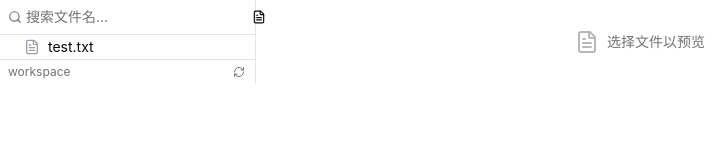
Test: FileExplorerPanel › 搜索输入触发文件搜索
Type in search
Type "found" into the field with test id "search-input" at (135, 17), box top-left (26, 7), bottom-right (244, 27)
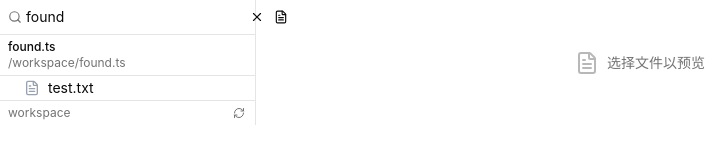
Result: the text "found.ts" is shown at top-left (8, 39), bottom-right (55, 54)
